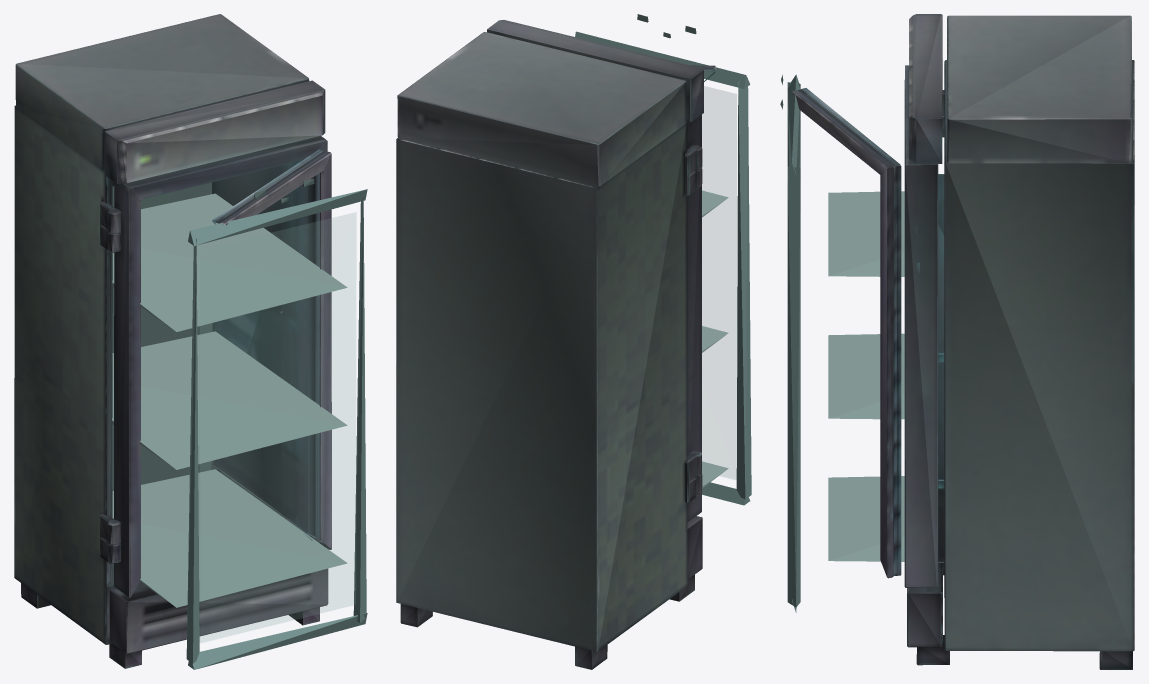
File: PRP_FRIDGE.fbx
3 views of the same model, side by side, from view 1: azimuth 30°, elevation 25°; view 2: azimuth 150°, elevation 25°; view 3: azimuth 270°, elevation 25° (orthographic). The views are drawn at different scales.
Parts seen in each view (by area): view 1: PRP_FRIDGE_Body.001, PRP_FRIDGE_DoorGlass, PRP_FRIDGE_Shelf_0.92, PRP_FRIDGE_Shelf_0.38, PRP_FRIDGE_Shelf_1.46, PRP_FRIDGE_FrameLeft, PRP_FRIDGE_FrameRight, PRP_FRIDGE_InnerBack, PRP_FRIDGE_FrameTop, PRP_FRIDGE_FrameBottom; view 2: PRP_FRIDGE_Body.001, PRP_FRIDGE_DoorGlass, PRP_FRIDGE_FrameLeft, PRP_FRIDGE_FrameTop, PRP_FRIDGE_FrameBottom; view 3: PRP_FRIDGE_Body.001, PRP_FRIDGE_FrameRight, PRP_FRIDGE_Shelf_0.38, PRP_FRIDGE_Shelf_1.46, PRP_FRIDGE_Shelf_0.92, PRP_FRIDGE_FrameTop.
Part boxes in pixels (x1,y1,x2,y2): PRP_FRIDGE_Body.001: (14,14,331,668); PRP_FRIDGE_DoorGlass: (199,212,356,642); PRP_FRIDGE_Shelf_0.92: (112,331,347,469); PRP_FRIDGE_Shelf_0.38: (112,469,347,607); PRP_FRIDGE_Shelf_1.46: (112,193,347,331); PRP_FRIDGE_FrameLeft: (186,238,199,663); PRP_FRIDGE_FrameRight: (353,196,366,622); PRP_FRIDGE_InnerBack: (112,182,212,490); PRP_FRIDGE_FrameTop: (188,189,367,246); PRP_FRIDGE_FrameBottom: (188,613,367,669); PRP_FRIDGE_Body.001: (396,20,714,669); PRP_FRIDGE_DoorGlass: (702,86,736,479); PRP_FRIDGE_FrameLeft: (736,78,751,499); PRP_FRIDGE_FrameTop: (575,31,750,88); PRP_FRIDGE_FrameBottom: (702,482,750,505); PRP_FRIDGE_Body.001: (792,14,1134,669); PRP_FRIDGE_FrameRight: (787,166,800,607); PRP_FRIDGE_Shelf_0.38: (828,476,943,562); PRP_FRIDGE_Shelf_1.46: (828,191,904,276); PRP_FRIDGE_Shelf_0.92: (828,333,904,419); PRP_FRIDGE_FrameTop: (787,74,799,175).
Size of the model in its own units: 86.69 by 210 by 122.
6 materials, 1 textured.
